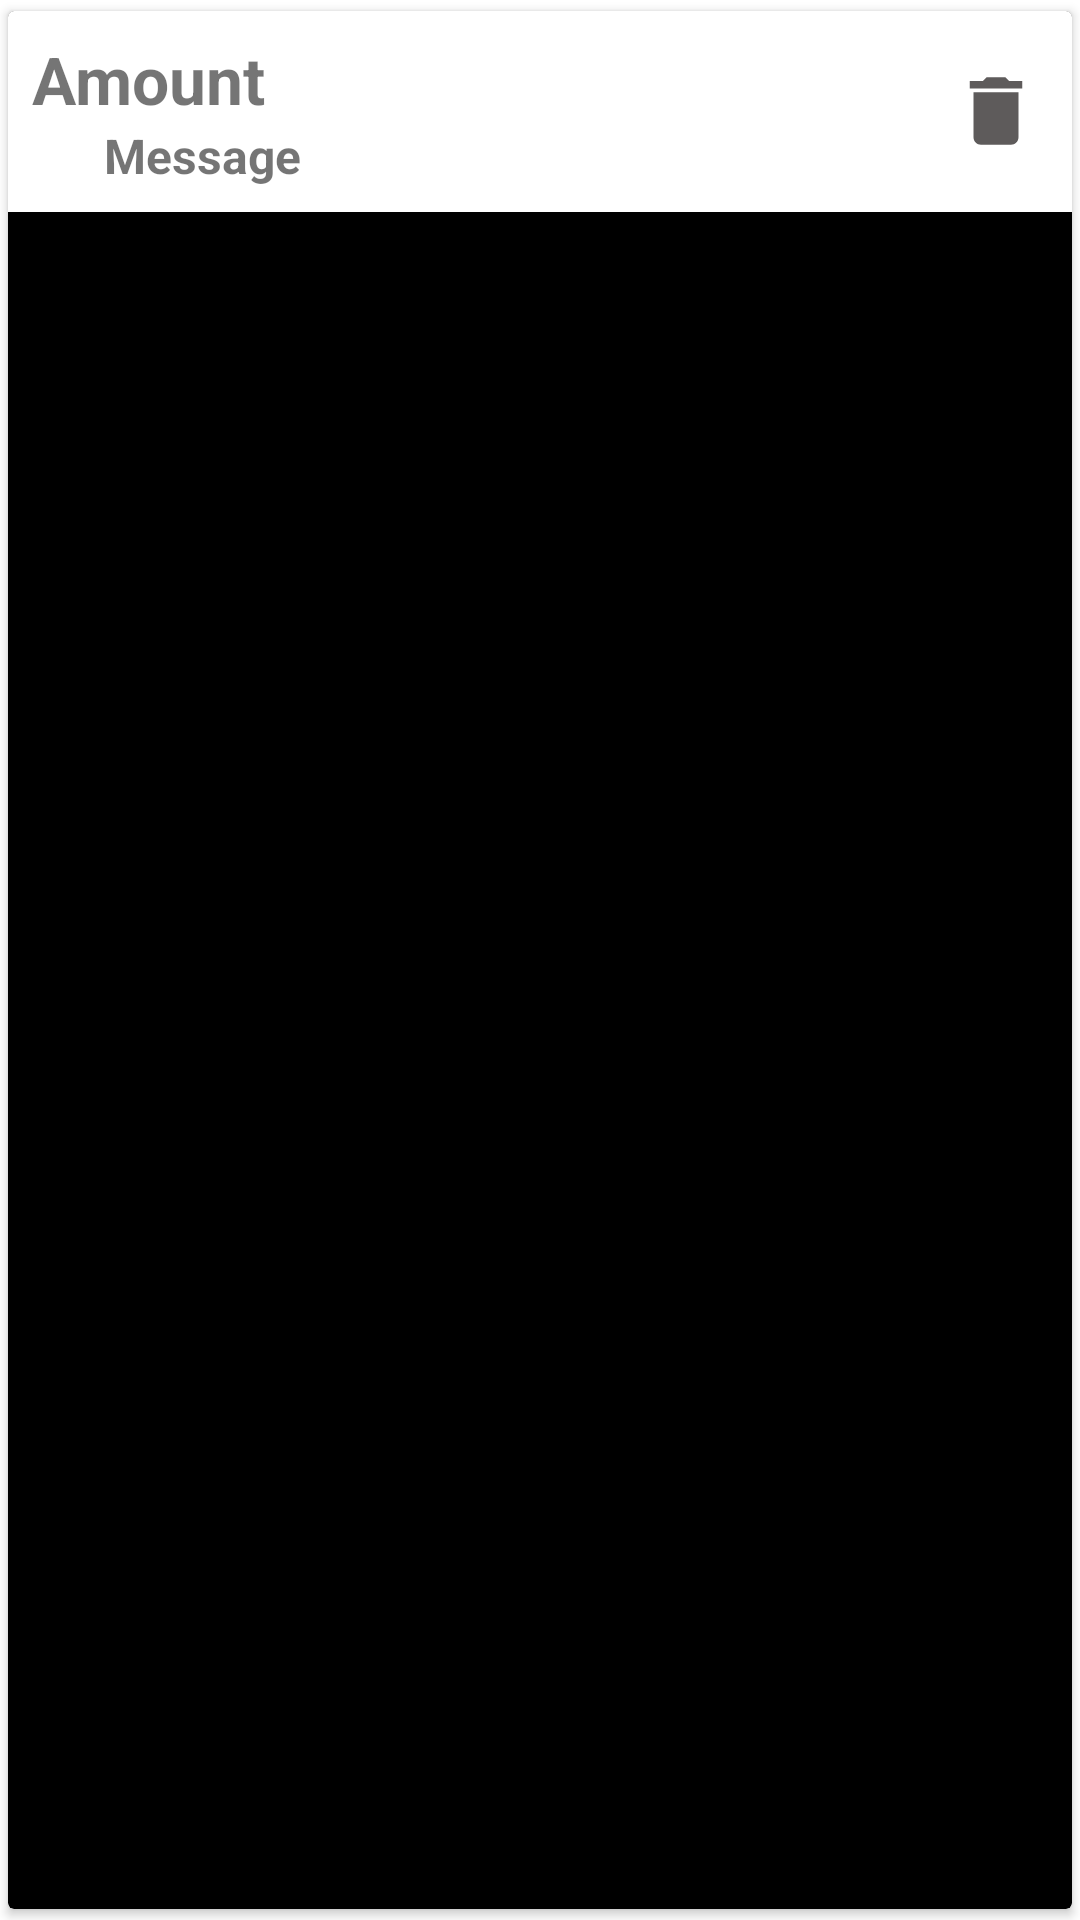

Icon bounding boxes for this 1080 × 1920 phone screenshot, format [left=x1, top=y1, right=x2, bottom=y2]:
delete: [left=969, top=77, right=1023, bottom=145]
